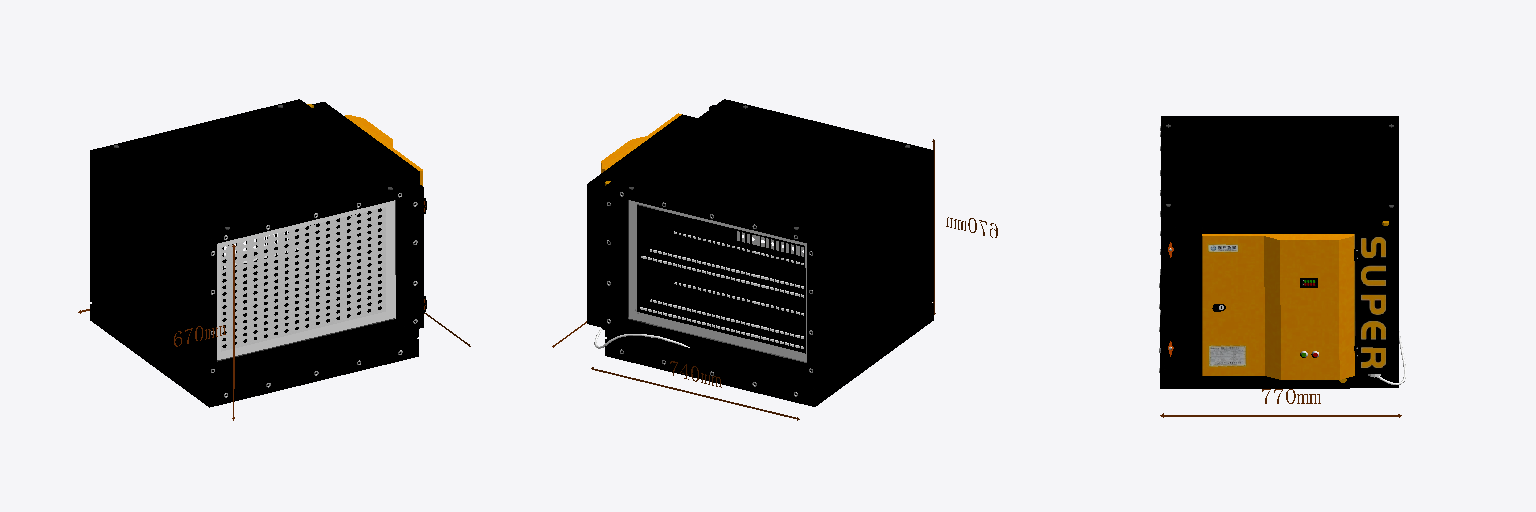
The picture shows the model from 3 angles: view 1: azimuth 30°, elevation 25°; view 2: azimuth 150°, elevation 25°; view 3: azimuth 270°, elevation 25°; orthographic projection.
Parts seen in each view (by area): view 1: Box003, Rectangle004, Text002; view 2: Box003, Cylinder085, Text002; view 3: Box003, Text002.
Boxes of the visible parts, x1=… form: Box003: x1=90, y1=99, x2=423, y2=407; Rectangle004: x1=221, y1=207, x2=385, y2=351; Text002: x1=78, y1=244, x2=470, y2=420; Box003: x1=587, y1=99, x2=933, y2=406; Cylinder085: x1=640, y1=209, x2=803, y2=349; Text002: x1=552, y1=139, x2=997, y2=420; Box003: x1=1160, y1=116, x2=1398, y2=388; Text002: x1=1160, y1=389, x2=1401, y2=417.
Size of the model in its own units: 59.07 by 32.36 by 48.44.
Materials: 2 (1 with a texture image).